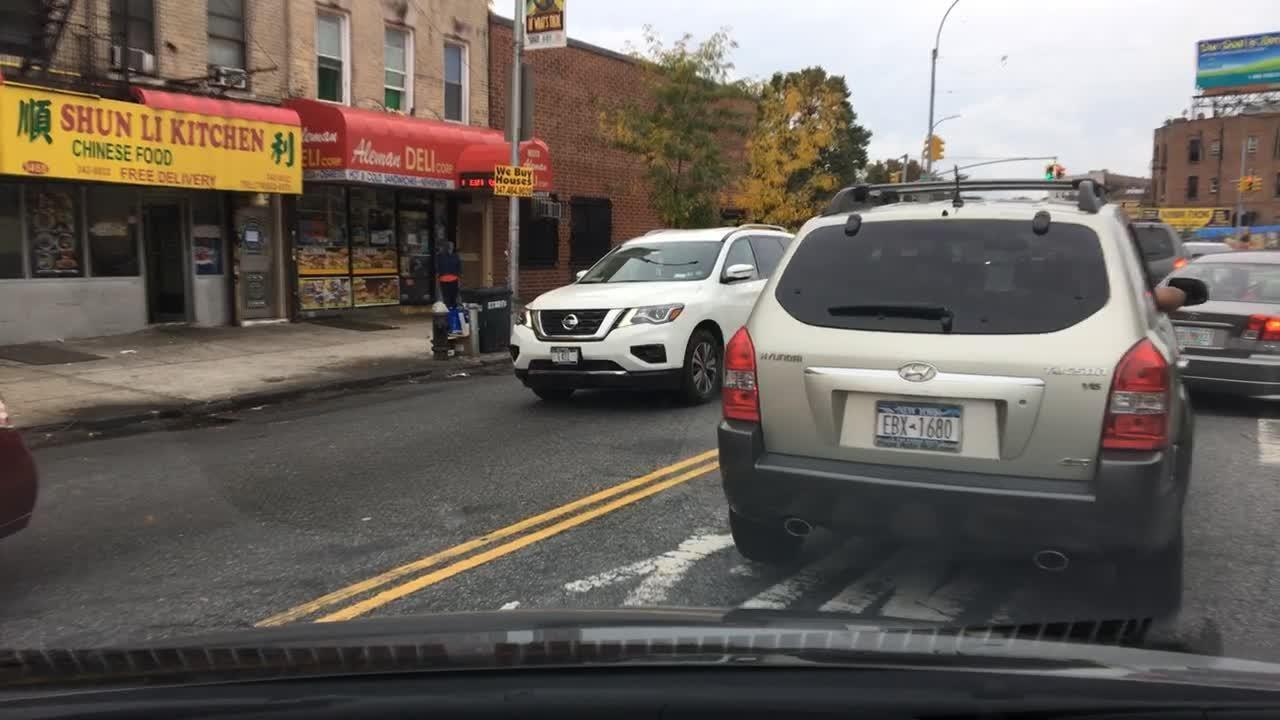Hyundai: (883, 356, 951, 390)
Nissan: (560, 312, 579, 334)
